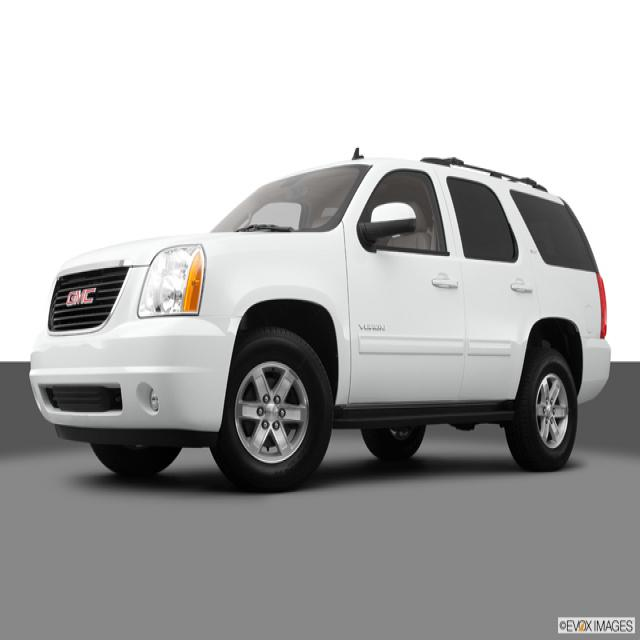car: (30, 150, 612, 493)
